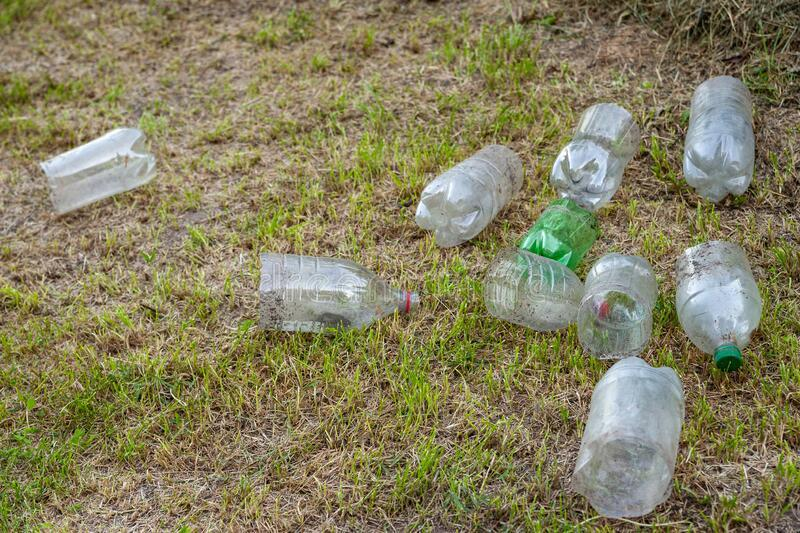bottle: (242, 233, 433, 357), (31, 109, 177, 239), (666, 226, 779, 383), (665, 73, 782, 216), (409, 136, 529, 251), (546, 87, 654, 207)
